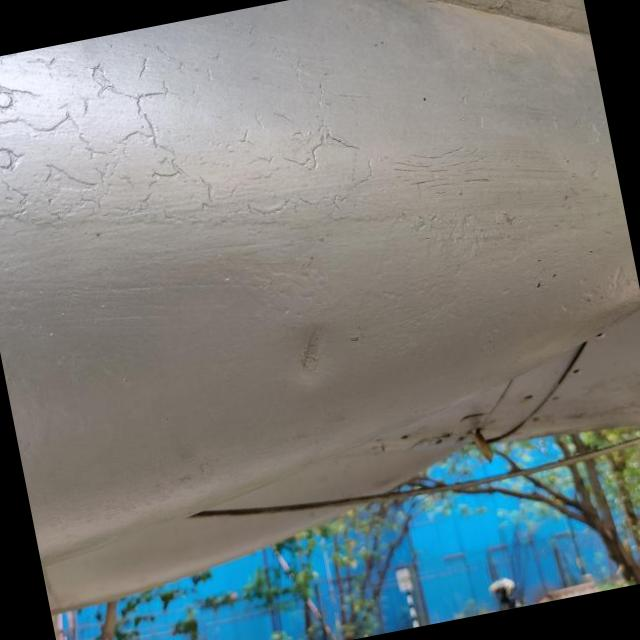Dent: (259, 313, 355, 390)
